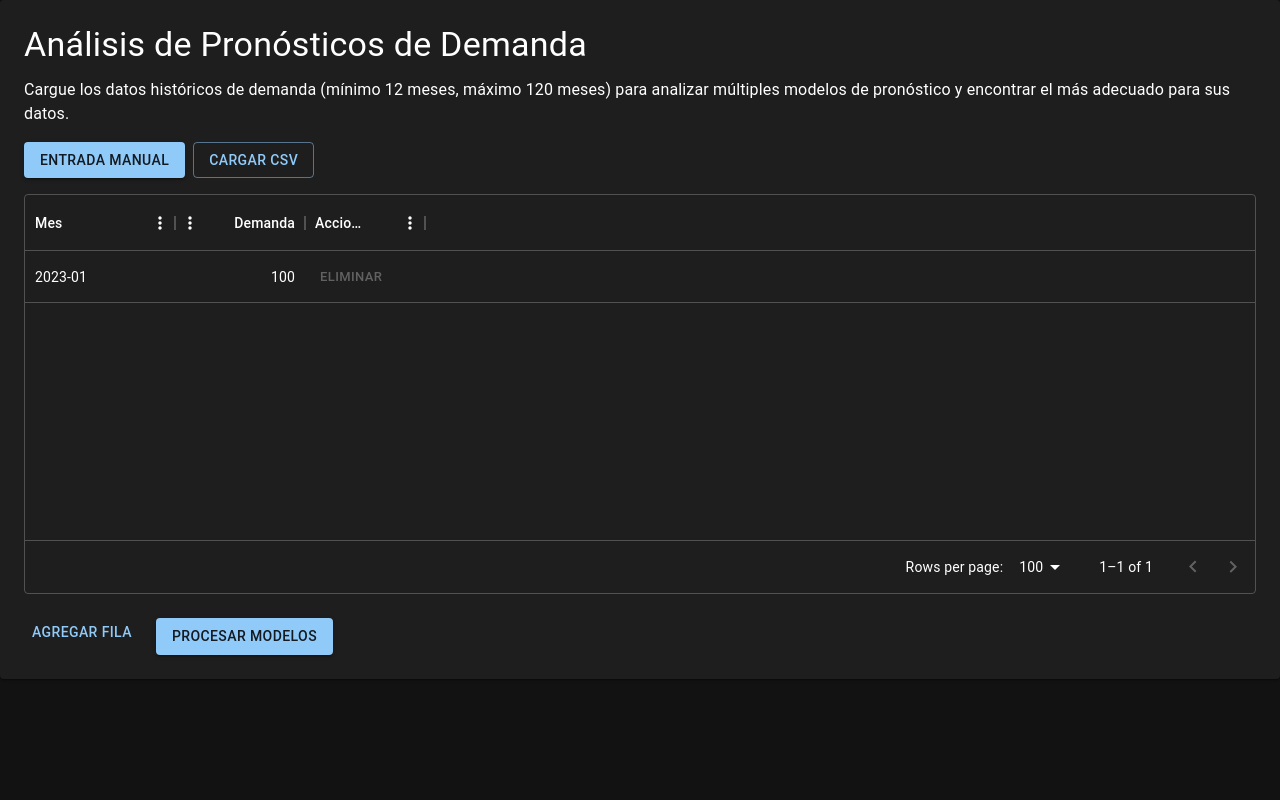
Test case: Mobile Usability Tests › Layout in Dark Mode › DataInput component works in dark mode
The image size is (1280, 800).
Expected: the heading "Análisis de Pronósticos de Demanda" is shown, left=24, top=24, right=587, bottom=64
Note: Test mode switching
Click the button "Cargar CSV". click: (254, 160)
box: left=193, top=142, right=314, bottom=178
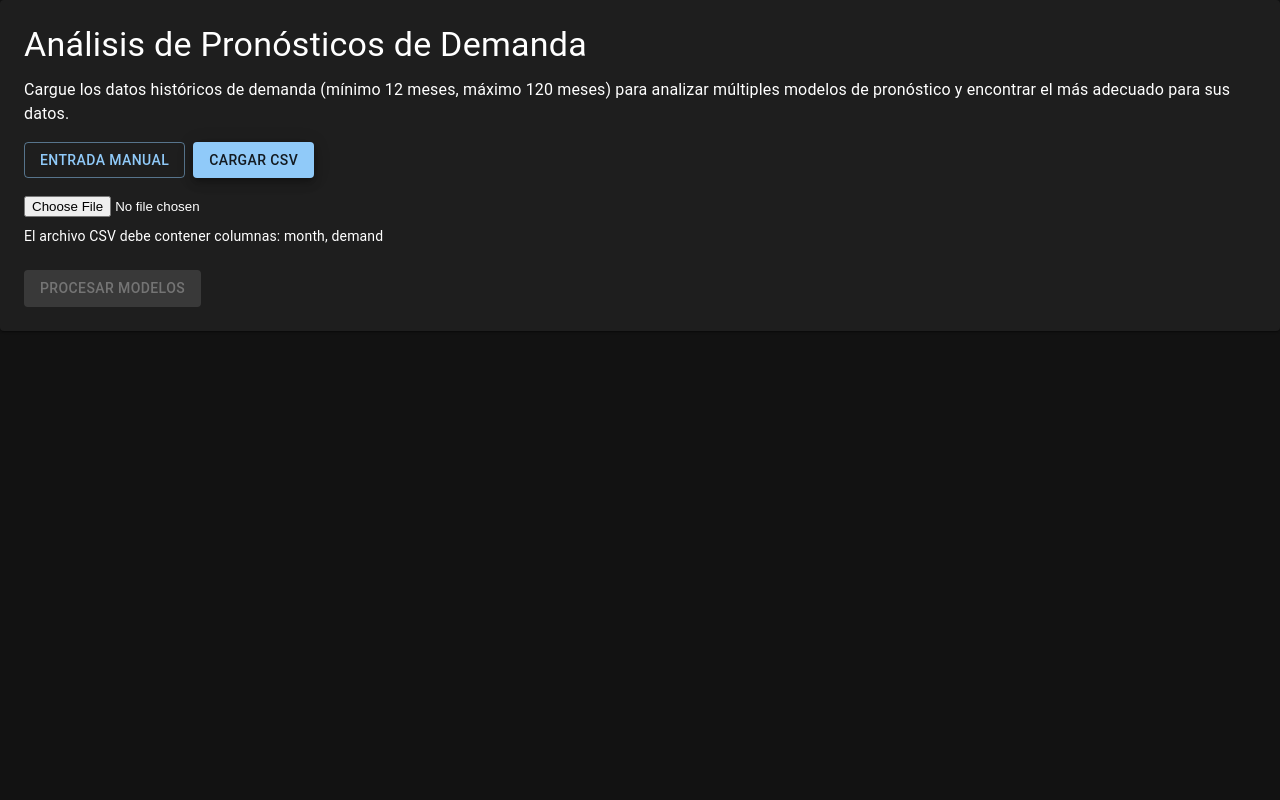
Expected: the text "El archivo CSV debe contener columnas: month, demand" is shown, left=24, top=228, right=383, bottom=244
Click the button "Entrada Manual". click: (105, 160)
box: left=24, top=142, right=185, bottom=178
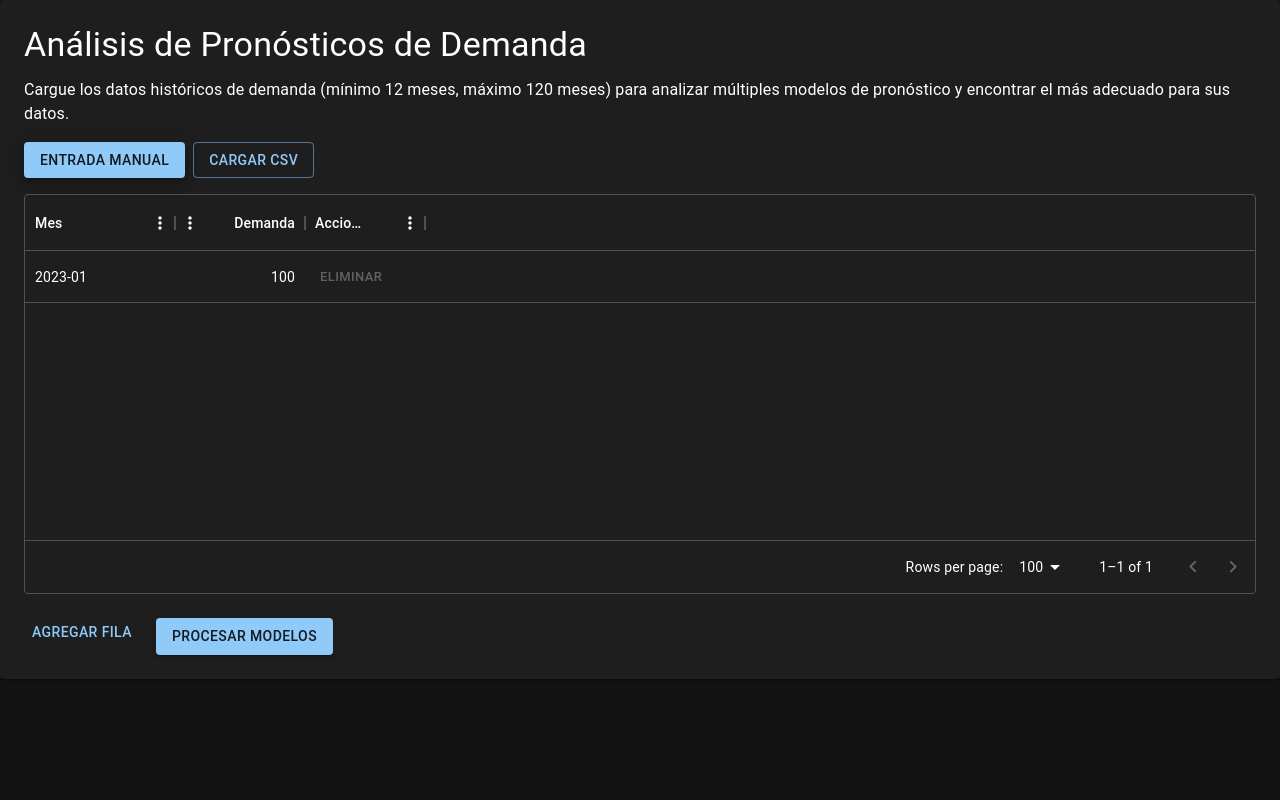
Expected: the button "Agregar Fila" is shown
Note: Test data manipulation
Click the button "Agregar Fila". click: (82, 633)
box: left=24, top=614, right=140, bottom=651
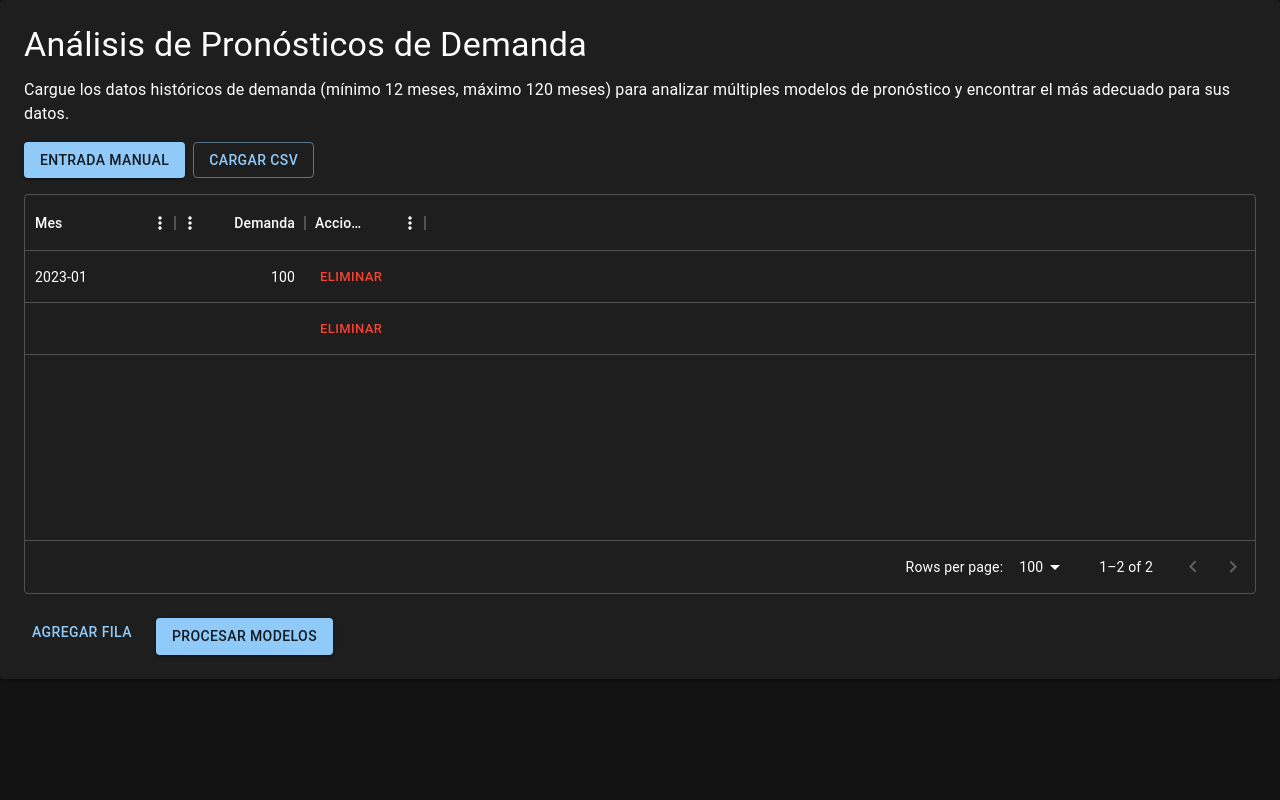
Expected: the number of buttons "Eliminar" is 2, left=315, top=262, right=387, bottom=292; left=315, top=314, right=387, bottom=344
